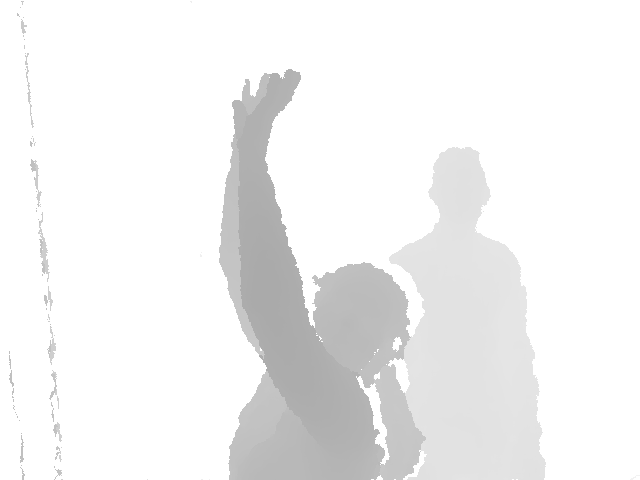hand: (230, 67, 302, 142)
head: (313, 262, 409, 369), (428, 147, 492, 230)
person: (216, 67, 426, 480), (386, 146, 549, 480)
